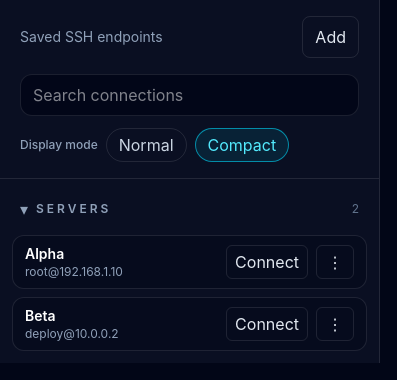
ConnectionList › uses a compact more menu for edit, copy, and delete actions
The width and height of the screenshot is (397, 380).
Click the button named "More actions".
click(335, 262)  # box 316,245 -> 354,279
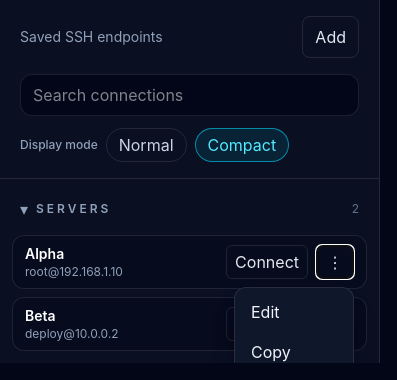
Expected: the menu item "Edit" is shown, 239,292 -> 349,332
Expected: the menu item "Copy" is shown, 239,332 -> 349,363
